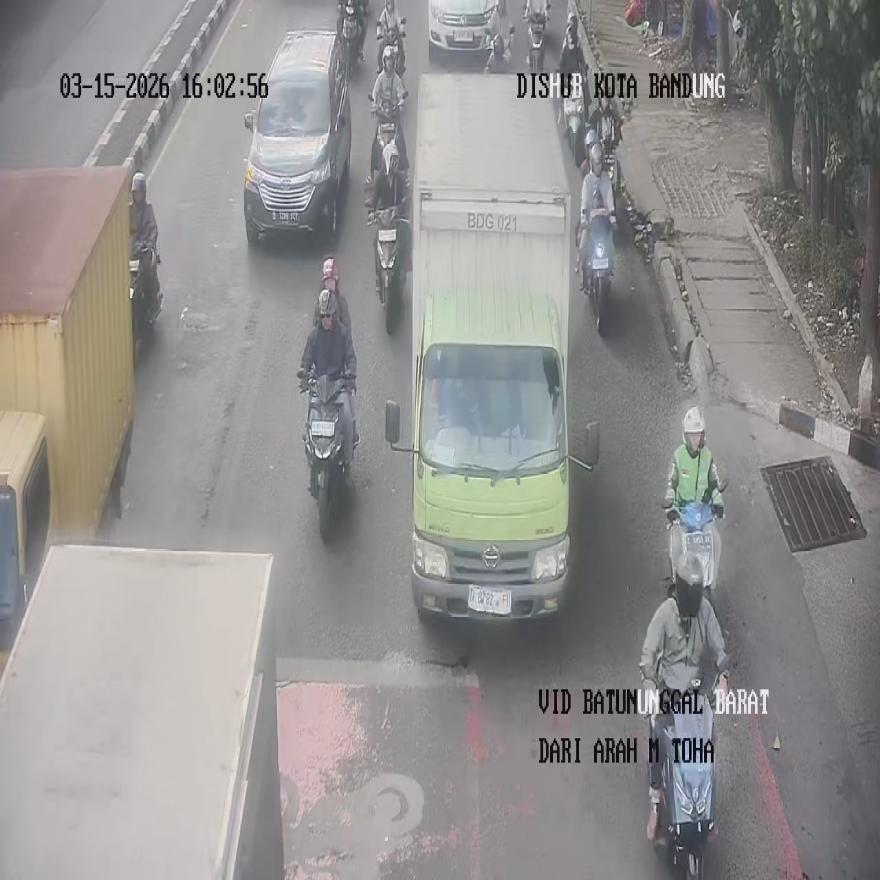Mobil: (0, 543, 285, 876), (242, 29, 350, 244), (427, 0, 499, 57)
Truk ringan: (384, 76, 599, 618)
